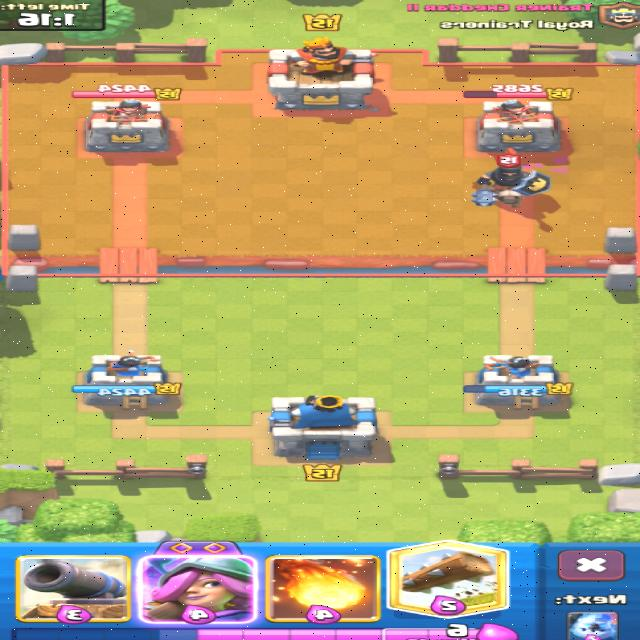Enemy-DarkPrince-Shield: (472, 149, 550, 206), (477, 102, 561, 151)
Enemy-KingTower: (270, 37, 376, 109)
Enemy-PrincessTower: (87, 99, 168, 152), (477, 99, 559, 150)
Player-KingTower: (270, 395, 377, 459)
Player-PrincessTower: (472, 356, 573, 409), (83, 355, 180, 409)
